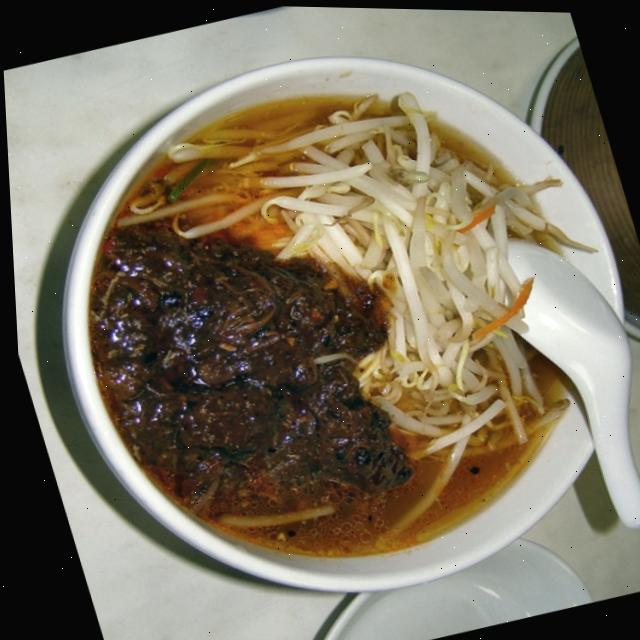面条主食: (1, 28, 640, 627)
